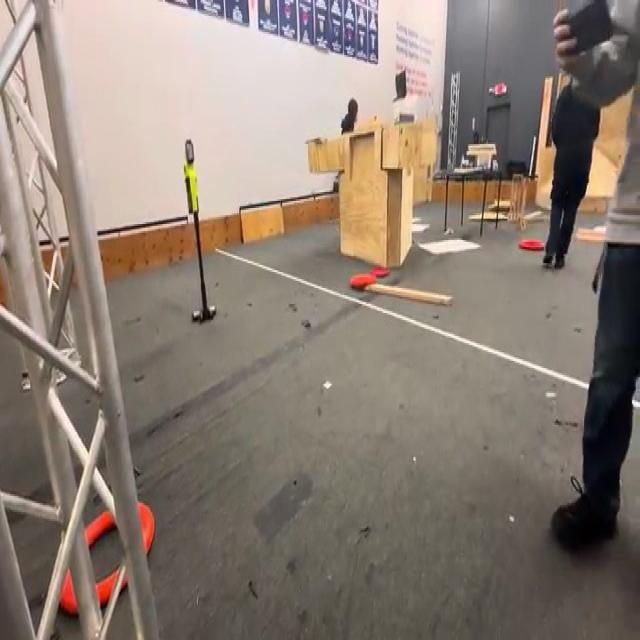note: (58, 495, 157, 616), (348, 272, 379, 291), (517, 237, 545, 253)
